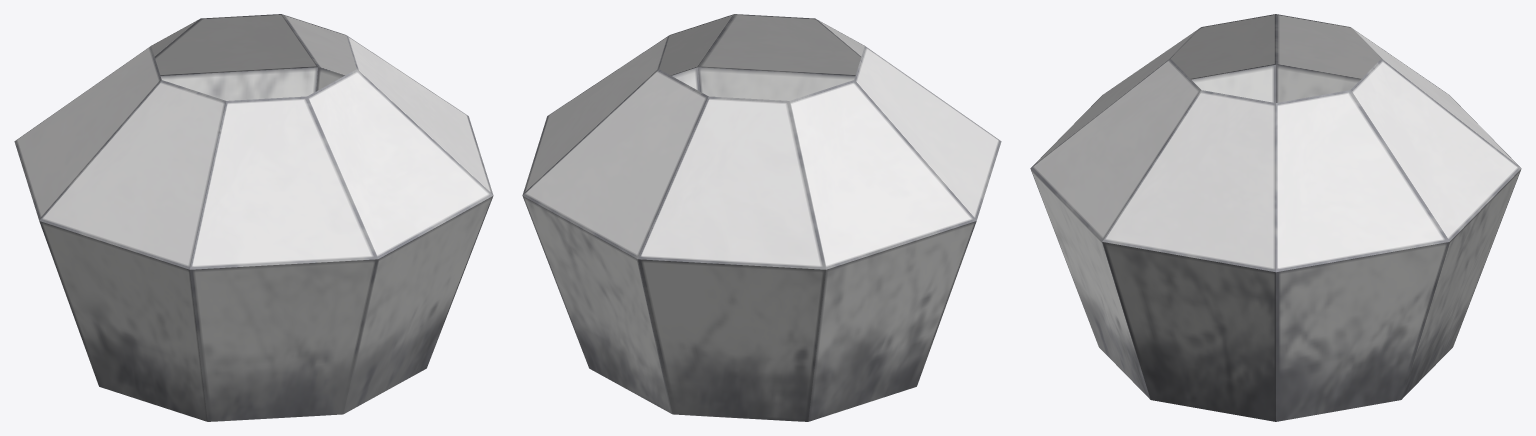
Rendered from nozzle_07.fbx.
3 renders of one model, left to right at view 1: azimuth 30°, elevation 25°; view 2: azimuth 150°, elevation 25°; view 3: azimuth 270°, elevation 25°, orthographic.
Visible parts, largest first — view 1: nozzle_07; view 2: nozzle_07; view 3: nozzle_07.
Boxes of the visible parts, x1,y1,x2,y2 form: nozzle_07: [14, 14, 493, 421]; nozzle_07: [522, 14, 1001, 421]; nozzle_07: [1030, 14, 1521, 421].
Bounding box in the file's own units: 8.35 × 5.86 × 8.35.
